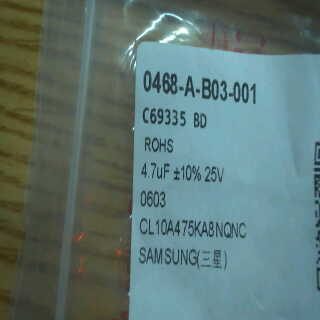4.7uF: (138, 159, 173, 182)
